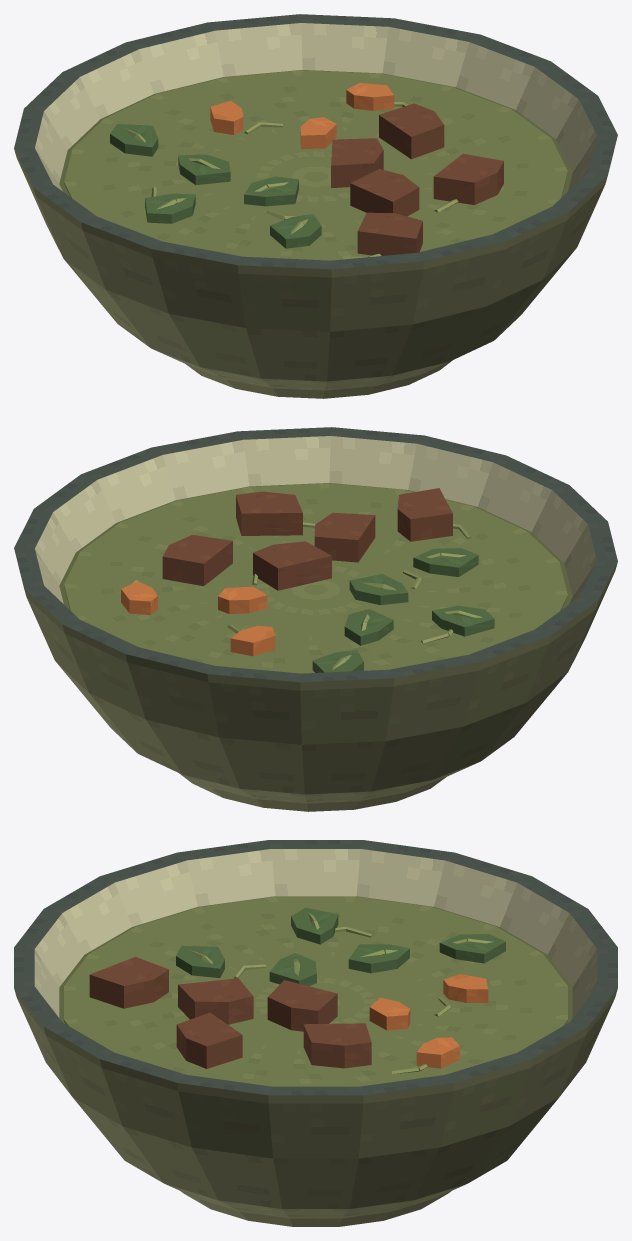
File: soup_woods.glb
3 views of the same model, one above another, from view 1: azimuth 30°, elevation 25°; view 2: azimuth 150°, elevation 25°; view 3: azimuth 270°, elevation 25° (orthographic).
Visible parts, largest first — view 1: block_deep open soup bowl, block_soup surface, block_meat piece (×5), block_folded greens (×5), block_carrot piece (×3), block_shaded liquid meniscus; view 2: block_deep open soup bowl, block_soup surface, block_meat piece (×5), block_folded greens (×5), block_carrot piece (×3), block_shaded liquid meniscus; view 3: block_deep open soup bowl, block_soup surface, block_meat piece (×5), block_folded greens (×5), block_carrot piece (×3), block_shaded liquid meniscus.
Part boxes in pixels (x1,y1,x2,y2): block_deep open soup bowl: (14, 14, 617, 398); block_soup surface: (64, 70, 567, 260); block_meat piece (×5): (331, 103, 503, 255); block_folded greens (×5): (110, 124, 321, 248); block_carrot piece (×3): (210, 83, 394, 149); block_shaded liquid meniscus: (59, 70, 572, 196); block_deep open soup bowl: (14, 427, 617, 811); block_soup surface: (64, 483, 567, 673); block_meat piece (×5): (162, 488, 452, 590); block_folded greens (×5): (312, 548, 494, 672); block_carrot piece (×3): (121, 581, 275, 656); block_shaded liquid meniscus: (59, 483, 572, 609); block_deep open soup bowl: (14, 840, 617, 1226); block_soup surface: (64, 896, 567, 1086); block_meat piece (×5): (89, 956, 371, 1068); block_folded greens (×5): (176, 907, 505, 986); block_carrot piece (×3): (369, 974, 488, 1068); block_shaded liquid meniscus: (59, 896, 572, 1023).
Size of the model in its own units: 0.1437 by 0.0517 by 0.1437.
Materials: 1 (1 with a texture image).
